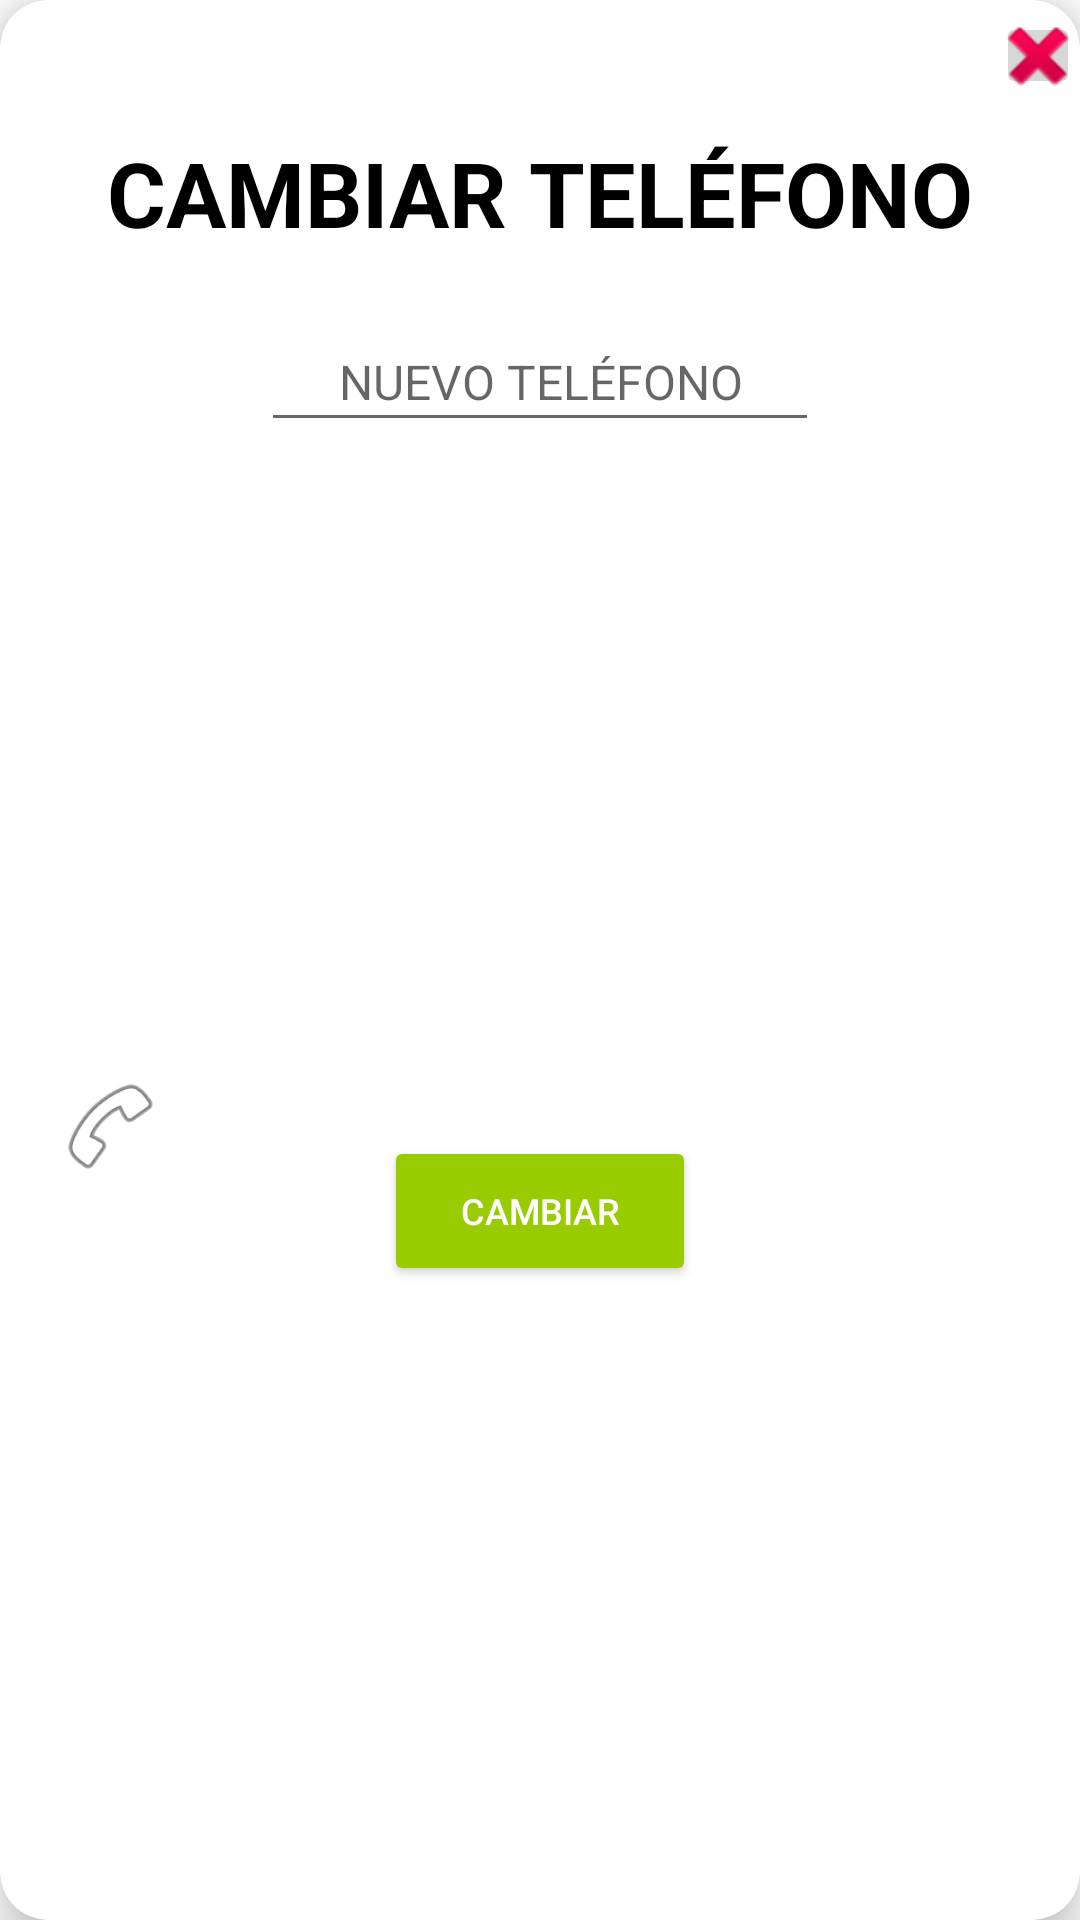

Named icons in this screenshot (1080 x 1920) and their centers, point (x, y):
call: point (110, 1126)
delete: point (1038, 56)
